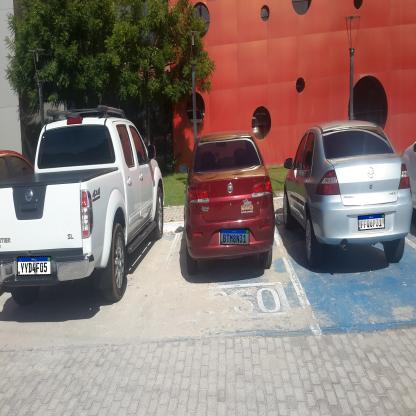PlacaM: (17, 256, 51, 276), (220, 228, 250, 245), (358, 214, 385, 230)
